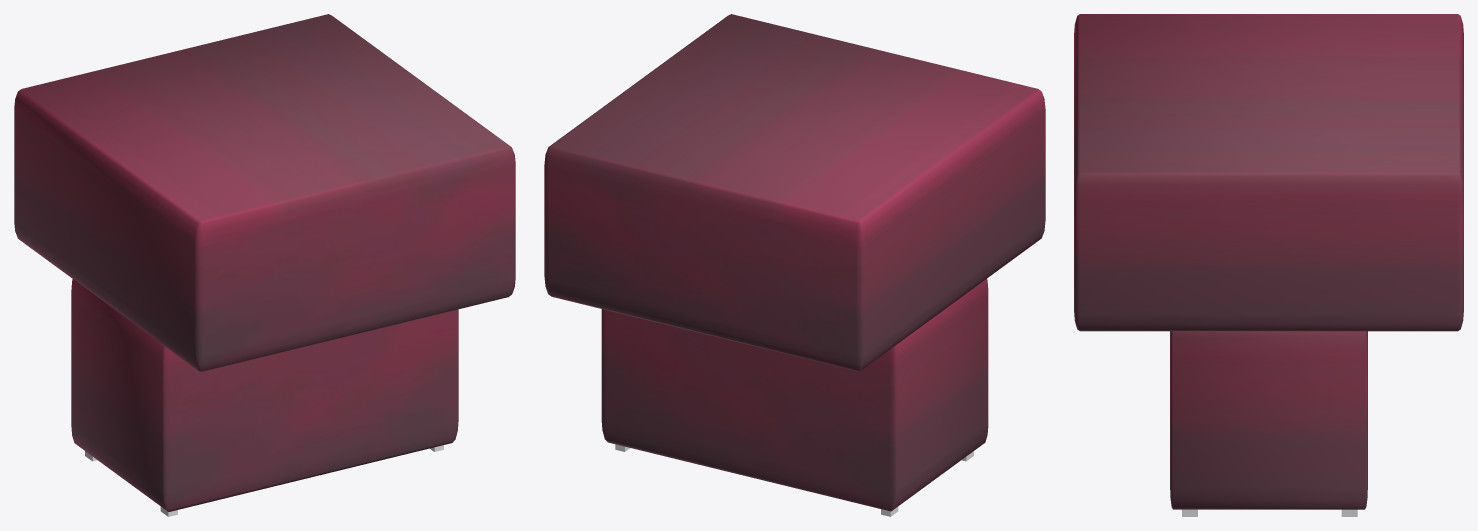
File: sh-contrib-clic-clac-ouvert.glb
The picture shows the model from 3 angles, left to right: view 1: azimuth 30°, elevation 25°; view 2: azimuth 150°, elevation 25°; view 3: azimuth 270°, elevation 25°; orthographic projection. The views are drawn at different scales.
Parts seen in each view (by area): view 1: mattress_1; view 2: mattress_1; view 3: mattress_1.
Boxes of the visible parts, <box> form: mattress_1: <box>14,14,515,511</box>; mattress_1: <box>544,14,1045,511</box>; mattress_1: <box>1074,14,1463,509</box>.
Size of the model in its own units: 1 by 1 by 1.
Materials: 2 (1 with a texture image).
